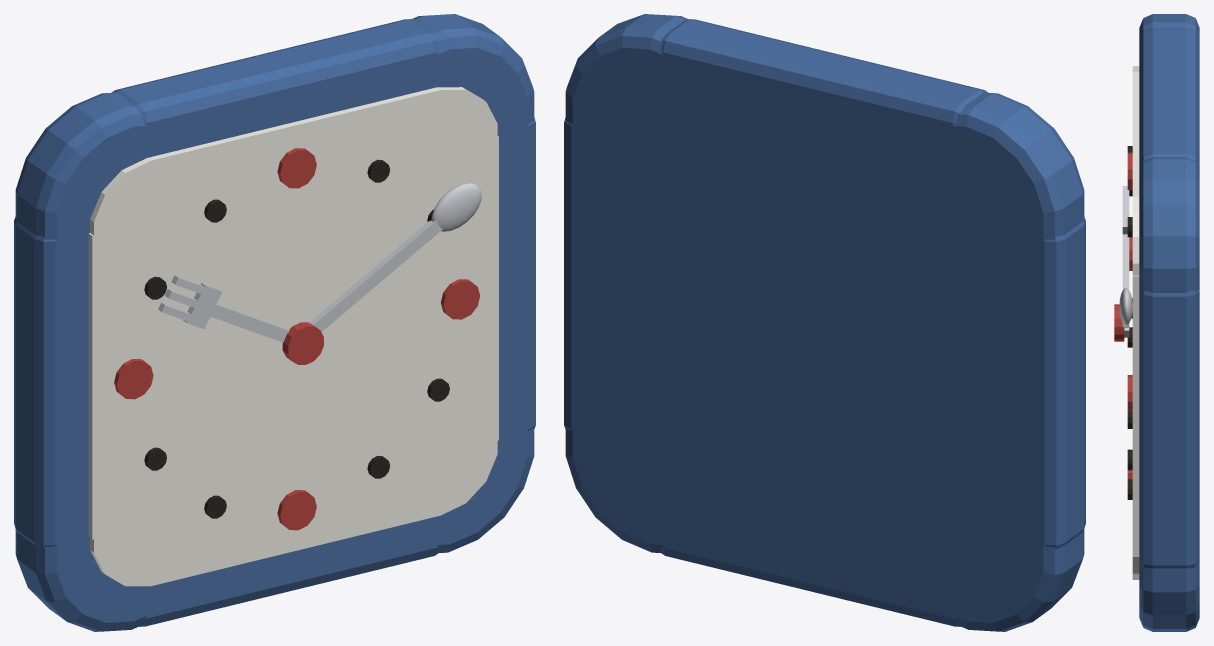
The model's file is hh_cat_kitchen_clock.glb.
3 views of the same model, side by side, from view 1: azimuth 30°, elevation 25°; view 2: azimuth 150°, elevation 25°; view 3: azimuth 270°, elevation 25° (orthographic). The views are drawn at different scales.
Visible parts, largest first — view 1: face, face.001, case.001, case, case.003, case.005, case.002, face.003, case.004, face.005, face.004, face.002 (+9 smaller); view 2: case, case.001, case.003, case.002, case.005, case.004; view 3: case.001, case.005, case, case.004, face.001, face, case.003, face.005, fork_hand, spoon_bowl, centre_cap, face.004 (+4 smaller).
Boxes of the visible parts, bbox=[...] form: face: bbox=[147, 87, 440, 585]; face.001: bbox=[88, 136, 498, 539]; case.001: bbox=[14, 117, 535, 549]; case: bbox=[112, 19, 438, 626]; case.003: bbox=[15, 92, 195, 284]; case.005: bbox=[388, 14, 534, 133]; case.002: bbox=[15, 501, 192, 631]; face.003: bbox=[90, 158, 206, 282]; case.004: bbox=[392, 417, 534, 553]; face.005: bbox=[384, 87, 497, 210]; face.004: bbox=[384, 397, 497, 515]; face.002: bbox=[90, 518, 150, 586]; case: bbox=[661, 19, 987, 626]; case.001: bbox=[564, 117, 1085, 549]; case.003: bbox=[889, 92, 1084, 291]; case.002: bbox=[889, 456, 1084, 631]; case.005: bbox=[565, 14, 725, 214]; case.004: bbox=[565, 379, 726, 553]; case.001: bbox=[1139, 289, 1199, 568]; case.005: bbox=[1139, 157, 1199, 292]; case: bbox=[1139, 28, 1199, 167]; case.004: bbox=[1139, 560, 1199, 631]; face.001: bbox=[1132, 275, 1139, 545]; face: bbox=[1132, 71, 1139, 196]; case.003: bbox=[1139, 14, 1199, 39]; face.005: bbox=[1132, 197, 1139, 275]; fork_hand: bbox=[1122, 234, 1129, 337]; spoon_bowl: bbox=[1119, 288, 1132, 325]; centre_cap: bbox=[1114, 304, 1124, 341]; face.004: bbox=[1132, 545, 1139, 579].
Bounding box in the file's own units: 0.3 × 0.3 × 0.05.
